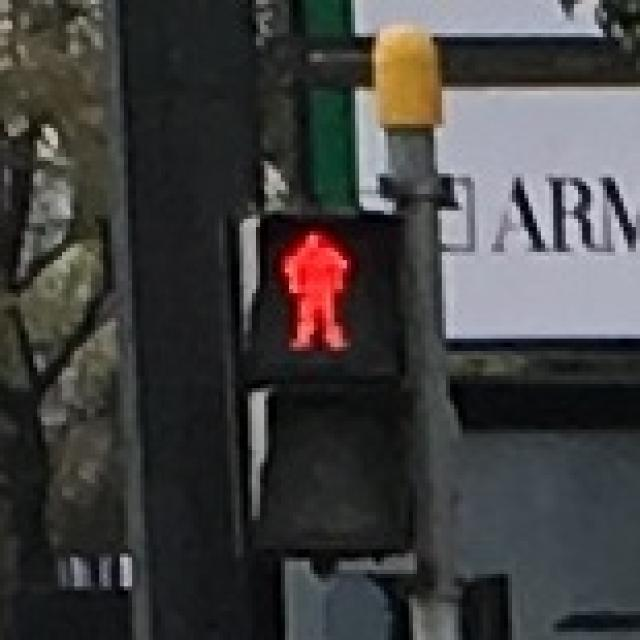red_light: (256, 218, 372, 356)
